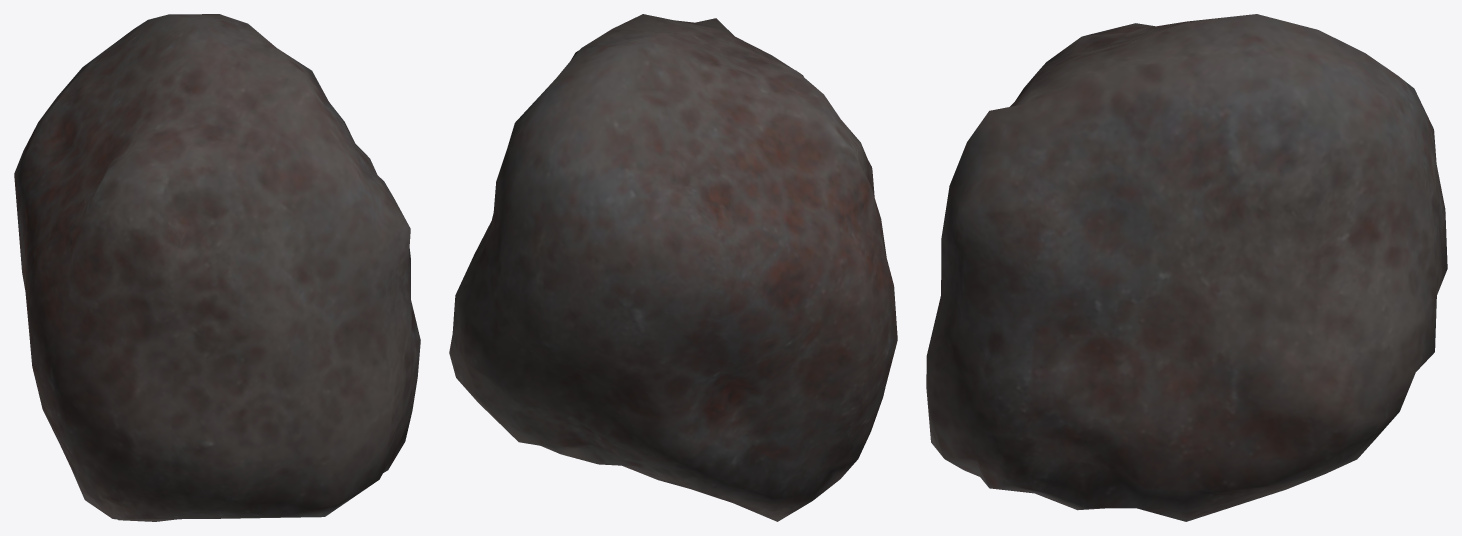
The model's file is asteroid6.dae.
The picture shows the model from 3 angles, left to right: view 1: azimuth 30°, elevation 25°; view 2: azimuth 150°, elevation 25°; view 3: azimuth 270°, elevation 25°; orthographic projection. The views are drawn at different scales.
Parts seen in each view (by area): view 1: Lp06; view 2: Lp06; view 3: Lp06.
Part boxes in pixels (bbox=[...]): Lp06: bbox=[14, 14, 420, 521]; Lp06: bbox=[449, 14, 897, 521]; Lp06: bbox=[926, 14, 1447, 521].
Bounding box in the file's own units: 6.38 × 7.99 × 7.38.
1 material, 1 textured.
